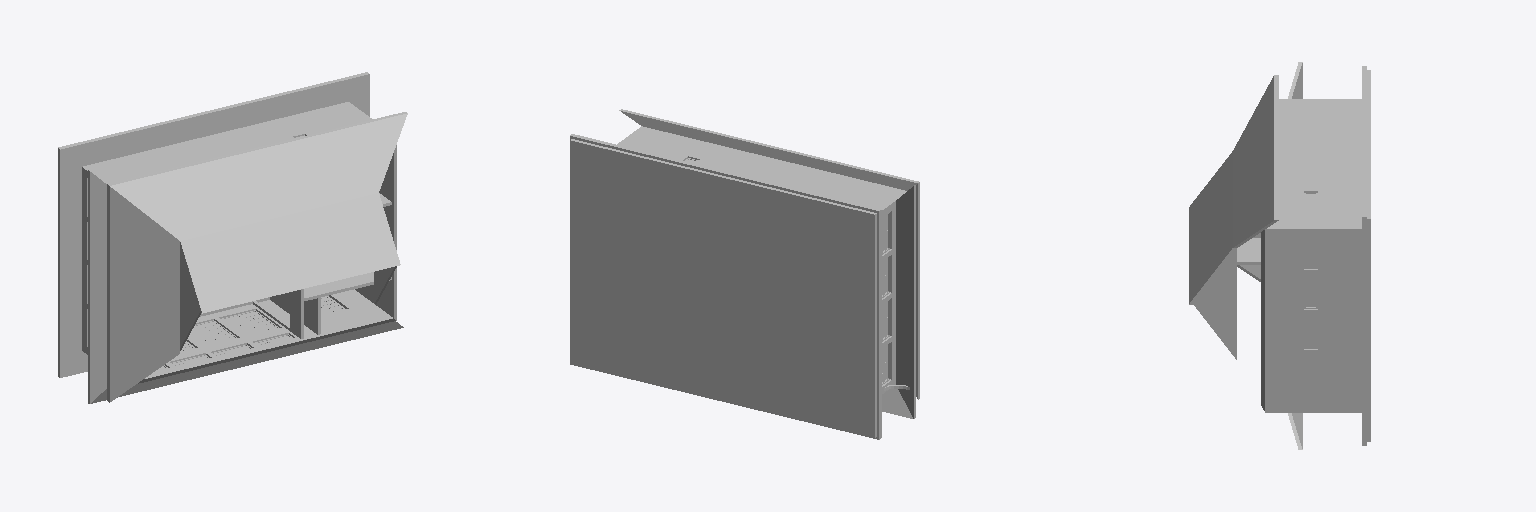
Rendered from House N181011.obj.
The picture shows the model from 3 angles: view 1: azimuth 30°, elevation 25°; view 2: azimuth 150°, elevation 25°; view 3: azimuth 270°, elevation 25°; orthographic projection.
Size of the model in its own units: 521 by 370 by 262.